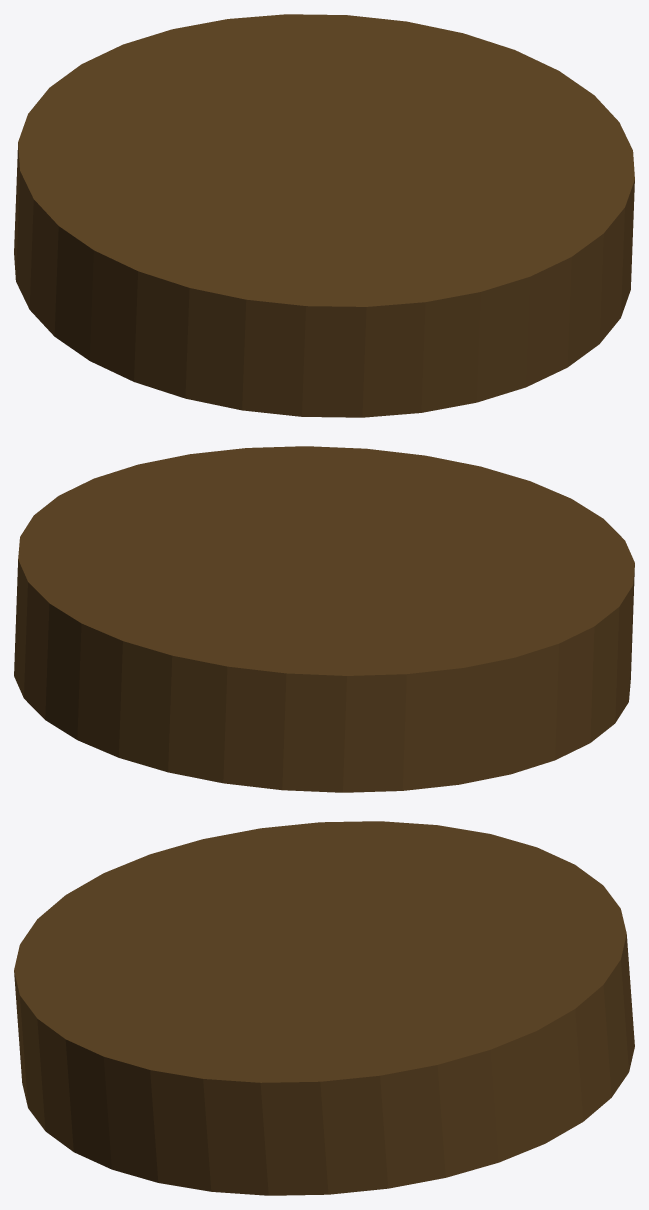
File: right_shoulder_x_link_visual_3.obj
3 renders of one model, top to bottom at view 1: azimuth 30°, elevation 25°; view 2: azimuth 150°, elevation 25°; view 3: azimuth 270°, elevation 25°, orthographic.
Parts seen in each view (by area): view 1: i01.rightArm.shoulder.full.004_visual.001; view 2: i01.rightArm.shoulder.full.004_visual.001; view 3: i01.rightArm.shoulder.full.004_visual.001.
Part boxes in pixels (x1,y1,x2,y2): i01.rightArm.shoulder.full.004_visual.001: (14,14,634,417); i01.rightArm.shoulder.full.004_visual.001: (14,446,634,792); i01.rightArm.shoulder.full.004_visual.001: (14,821,634,1195).
Bounding box in the file's own units: 0.1667 × 0.0448 × 0.1686.
